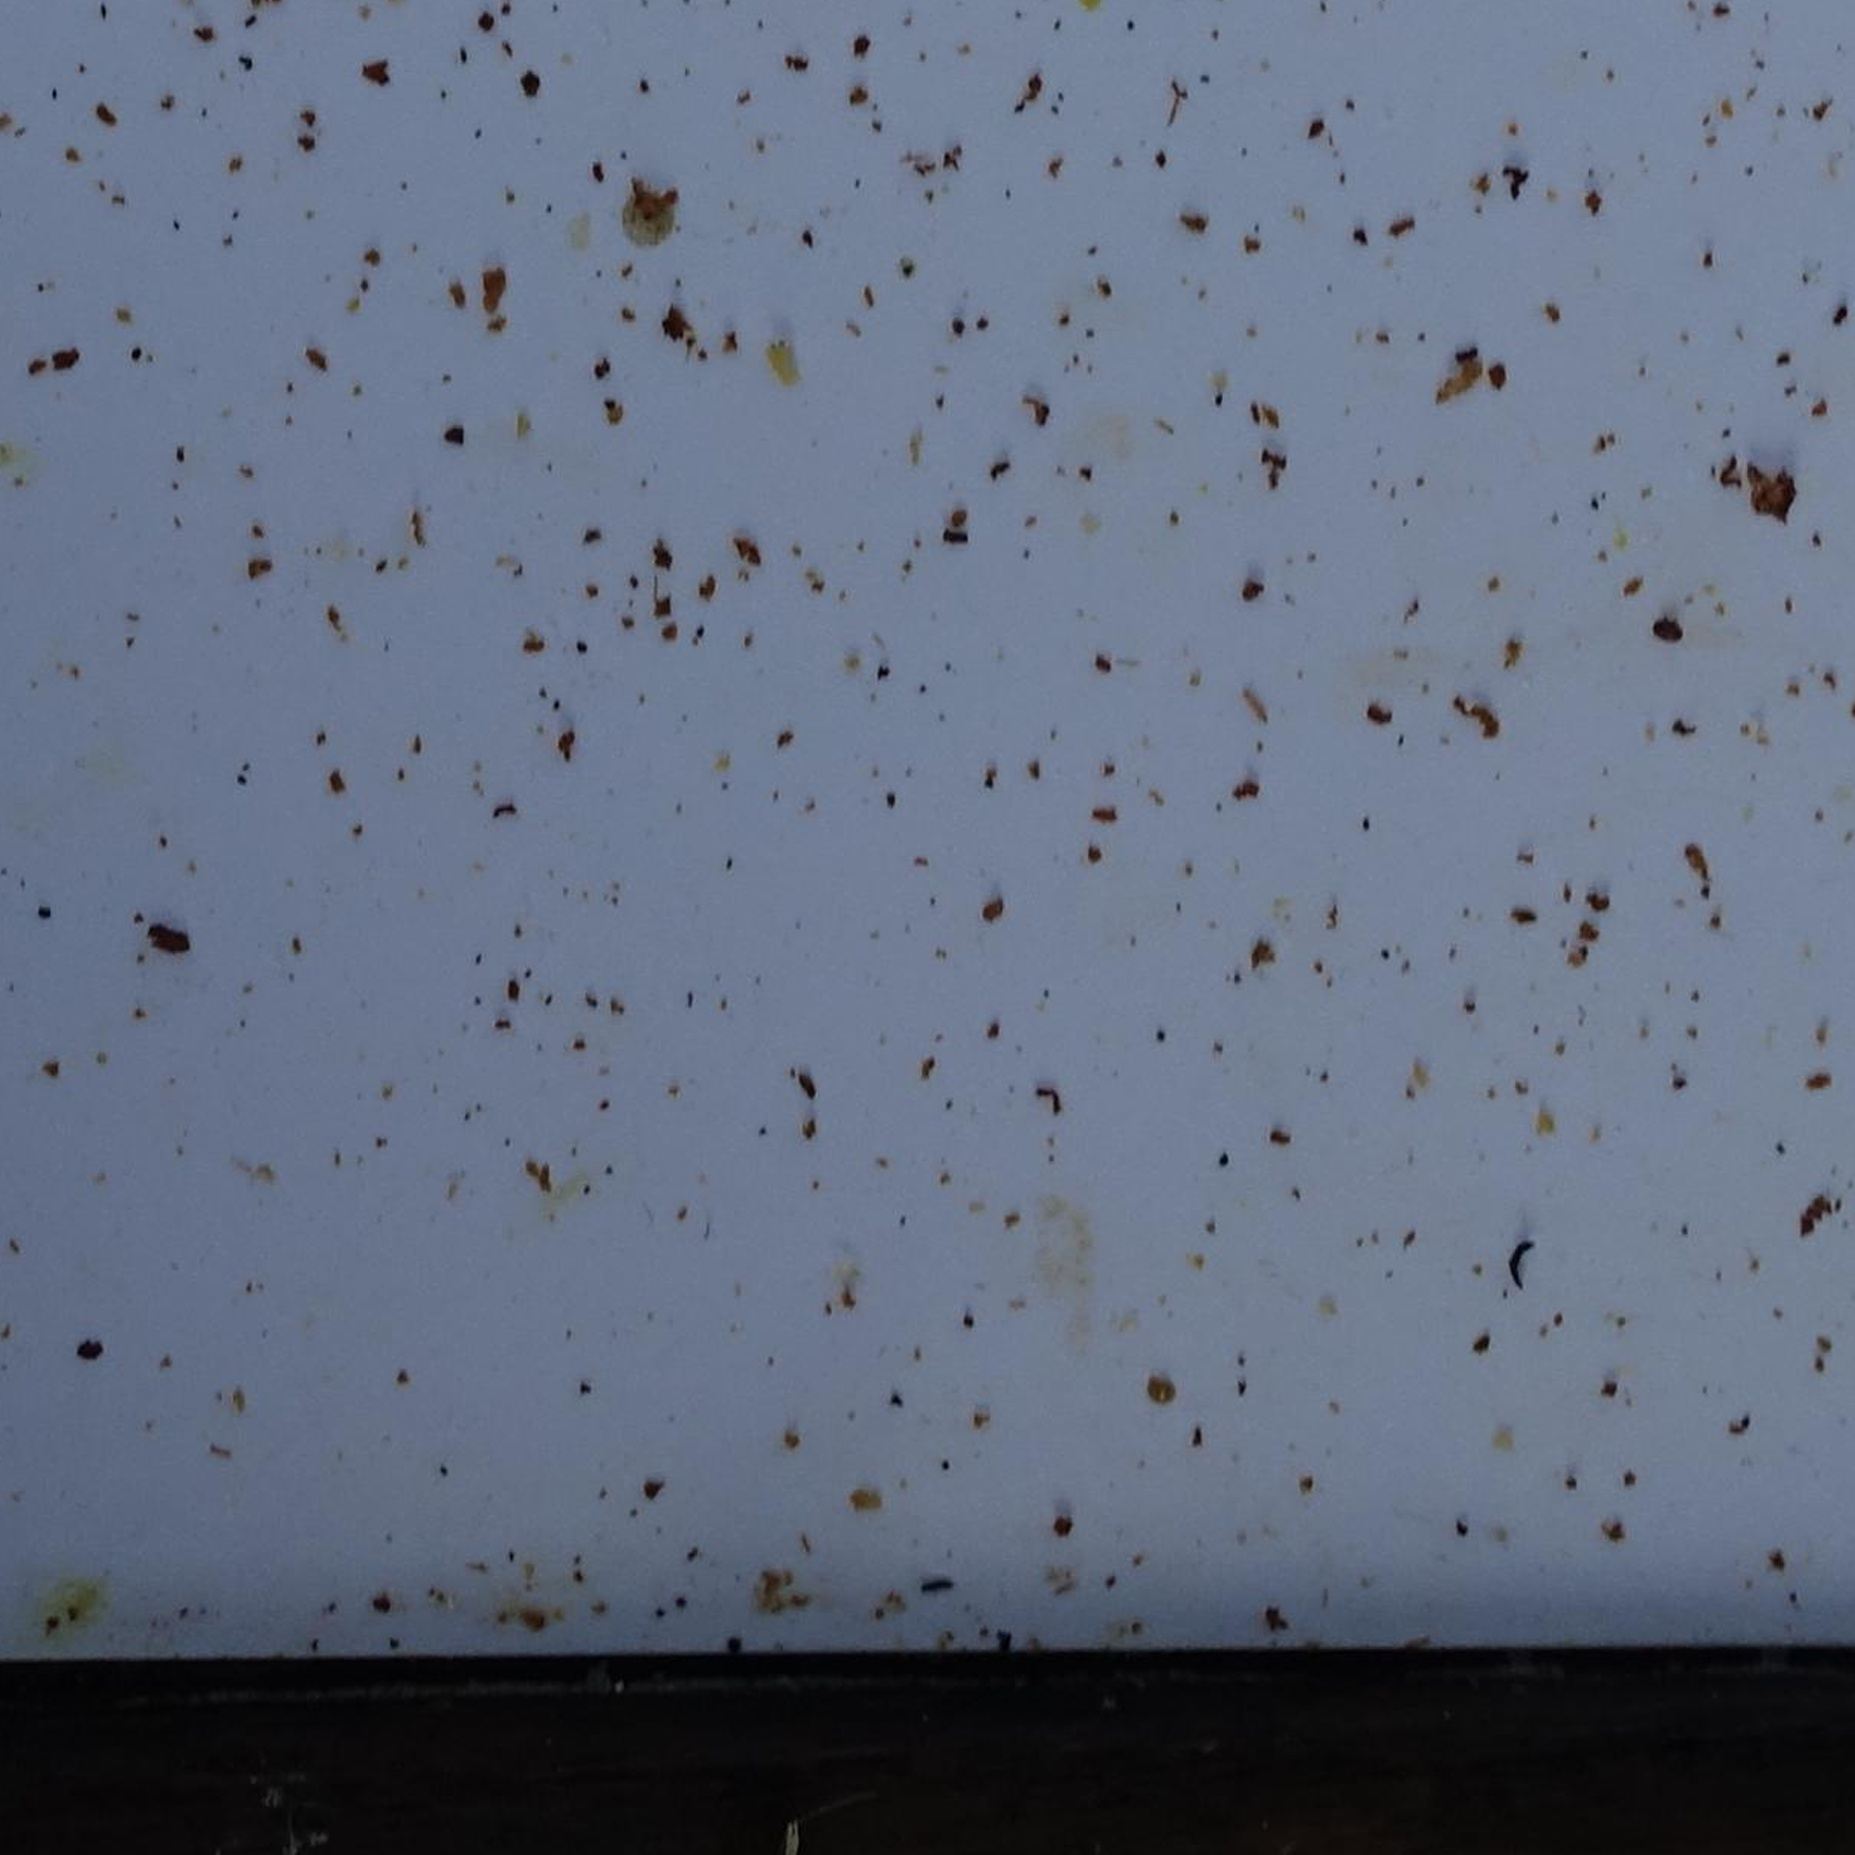Varroa: (1656, 617, 1689, 652)
